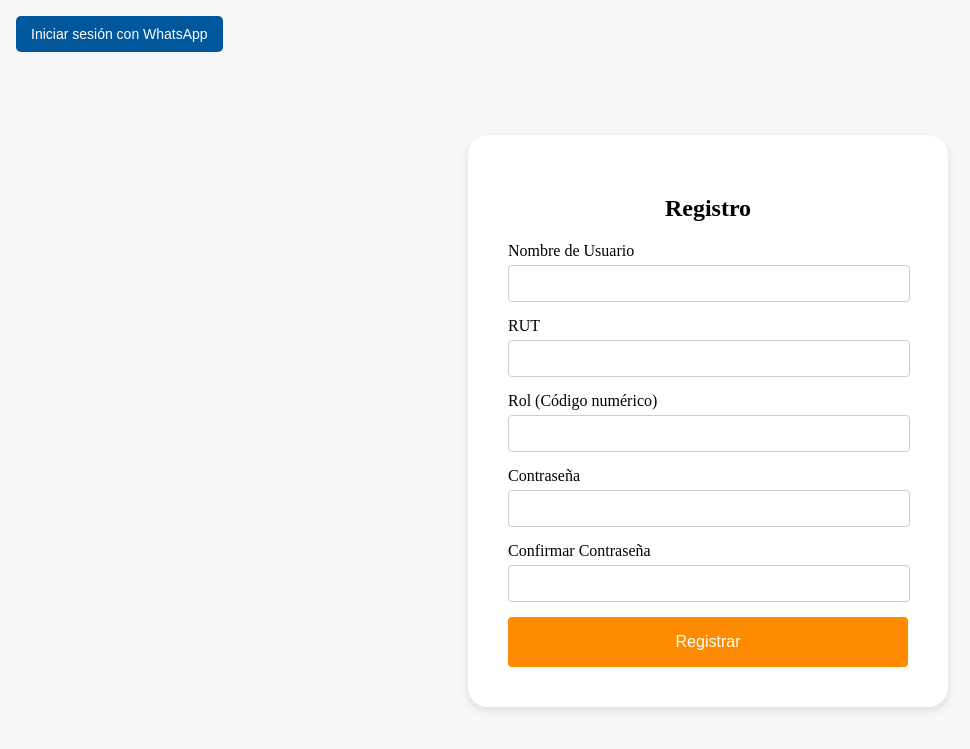
Test case: muestra error si las contraseñas no coinciden
Step 1. Type "juan" into the field labelled "Nombre de Usuario" → (709, 284), box [508,265,910,302]
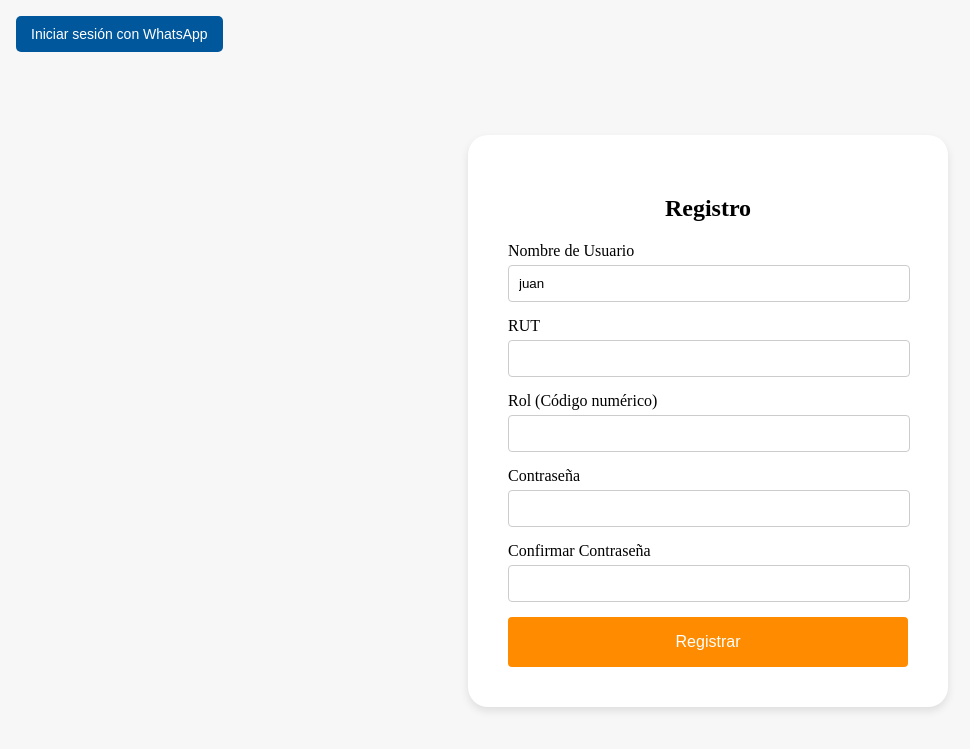
Step 2. Type "12345678-9" into the field labelled "RUT" → (709, 358), box [508,340,910,377]
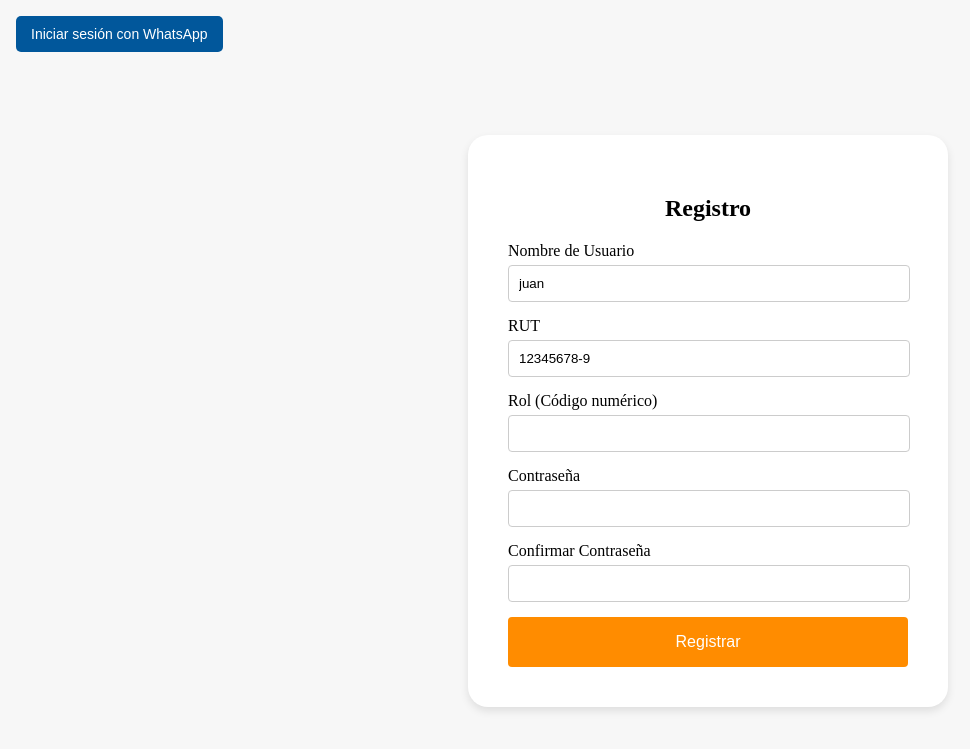
Step 3. Type "1" into the number field labelled "Rol (Código numérico)" → (709, 434), box [508,415,910,452]
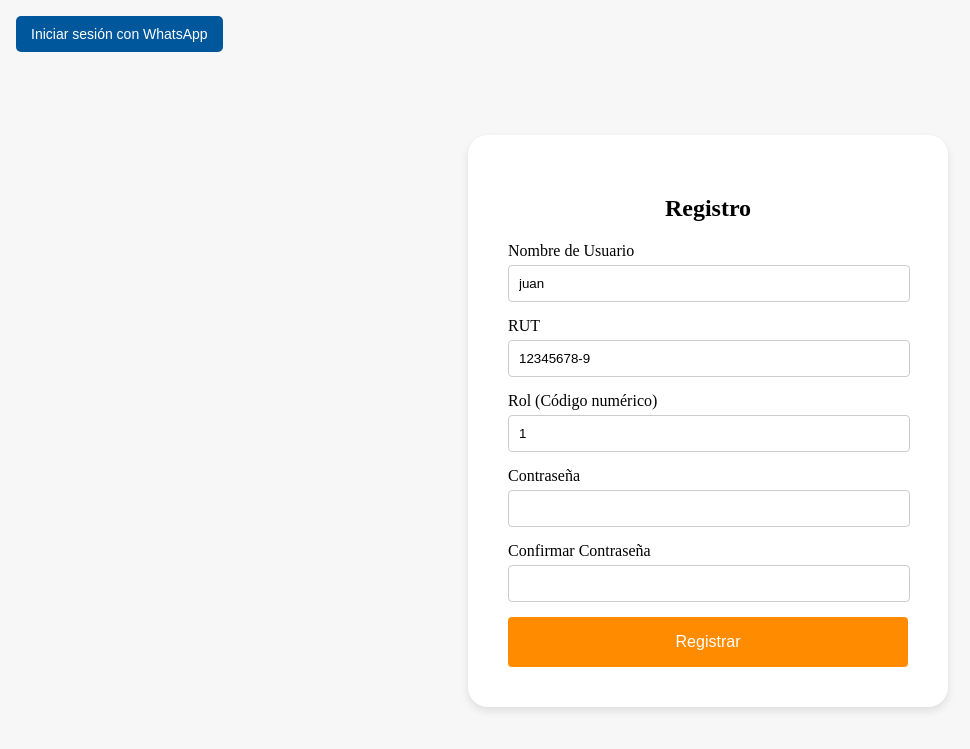
Step 4. Type "abc123" into the password field labelled "Contraseña" → (709, 508), box [508,490,910,527]
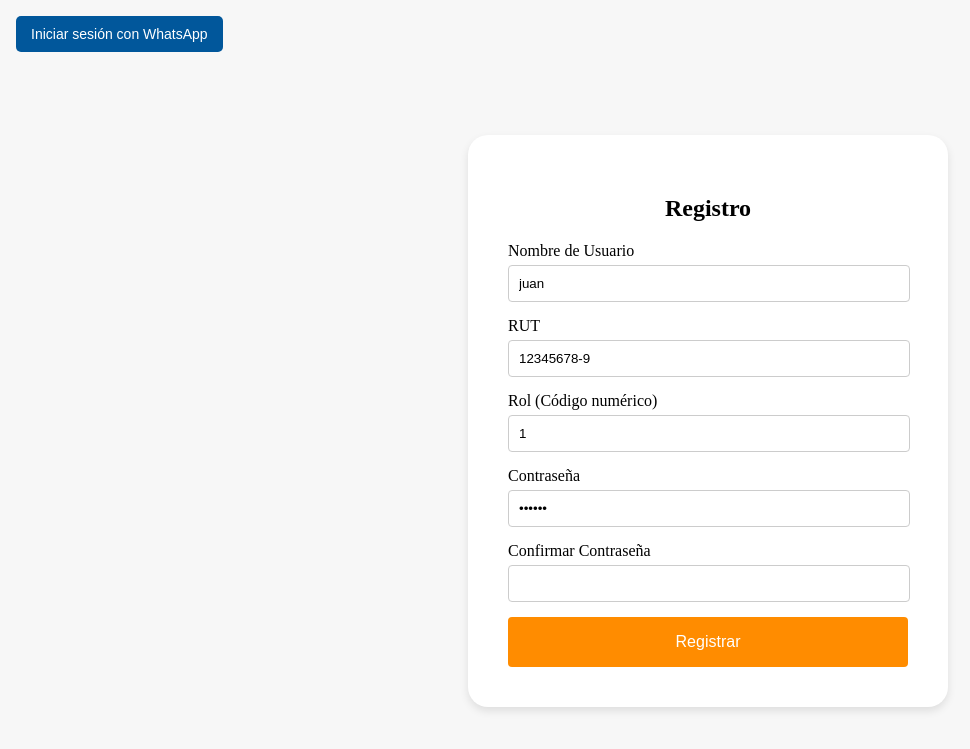
Step 5. Type "xyz999" into the password field labelled "Confirmar Contraseña" → (709, 584), box [508,565,910,602]
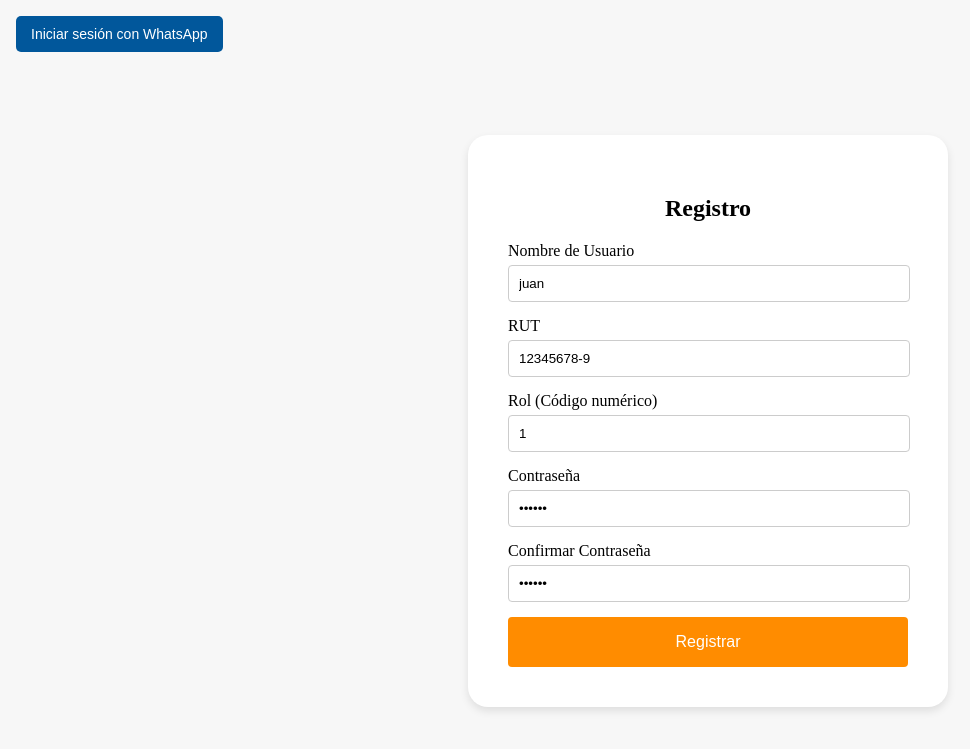
# Enviar formulario
Step 6. Click the button "Registrar" → (708, 642), box [508,617,908,667]
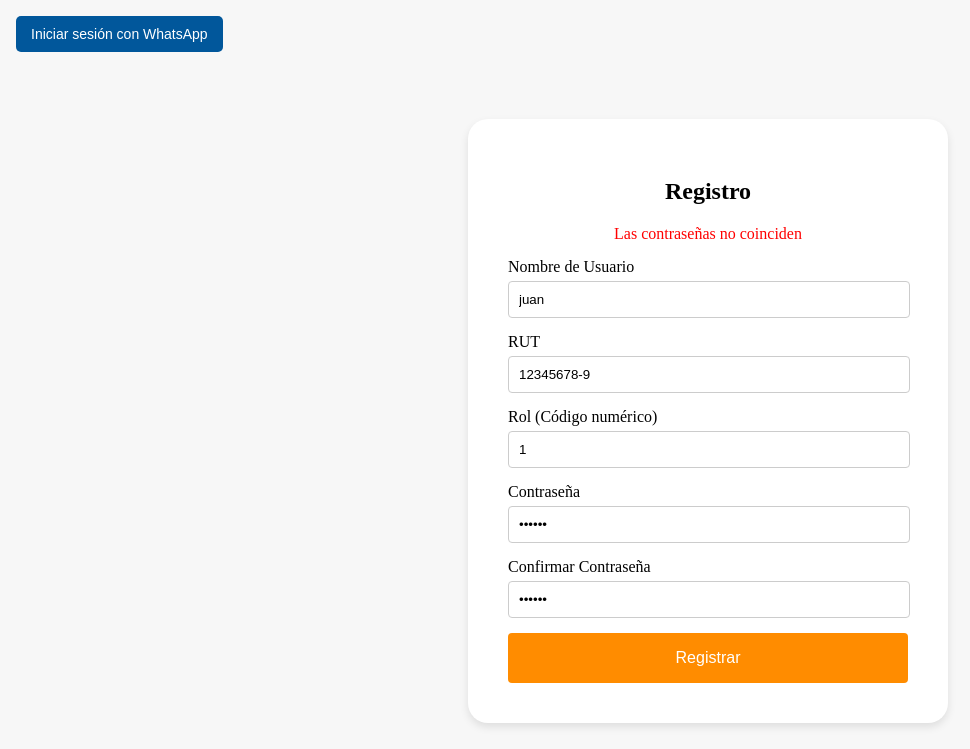
Result: the text "Las contraseñas no coinciden" is shown at [614,226,802,242]
